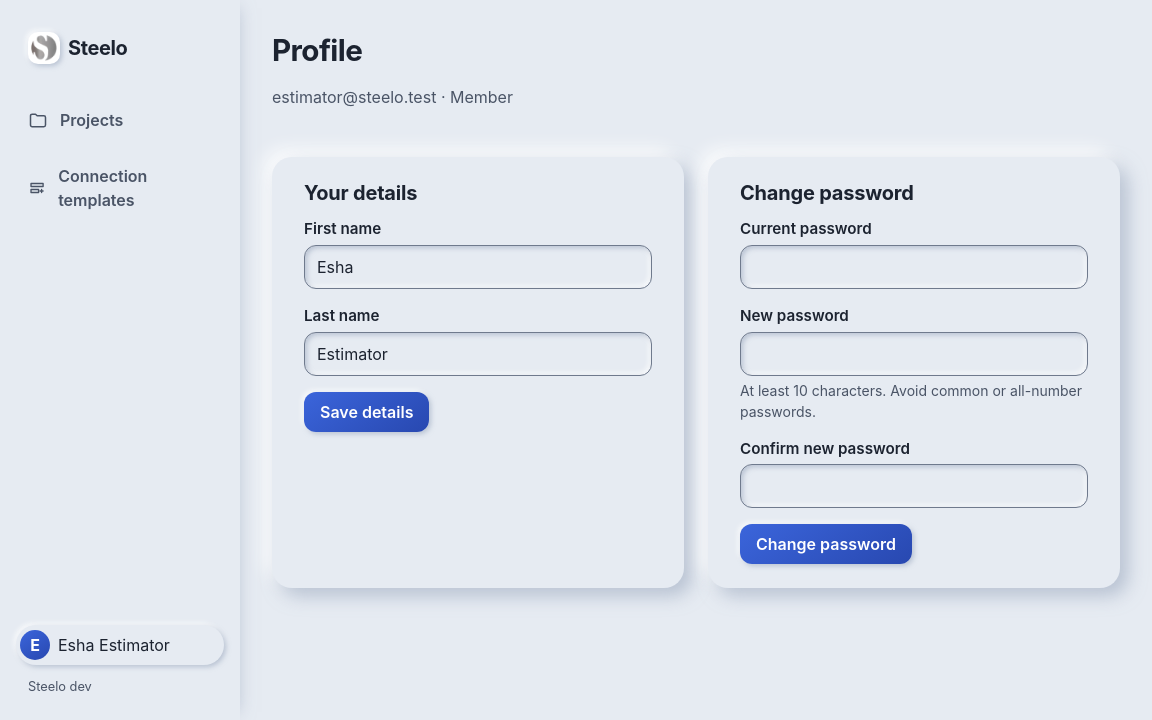
Profile › updates the name and reflects it in the user menu
Replace the text in the field labelled "First name" with "Eshani" at (478, 267), box 304,245 -> 652,289
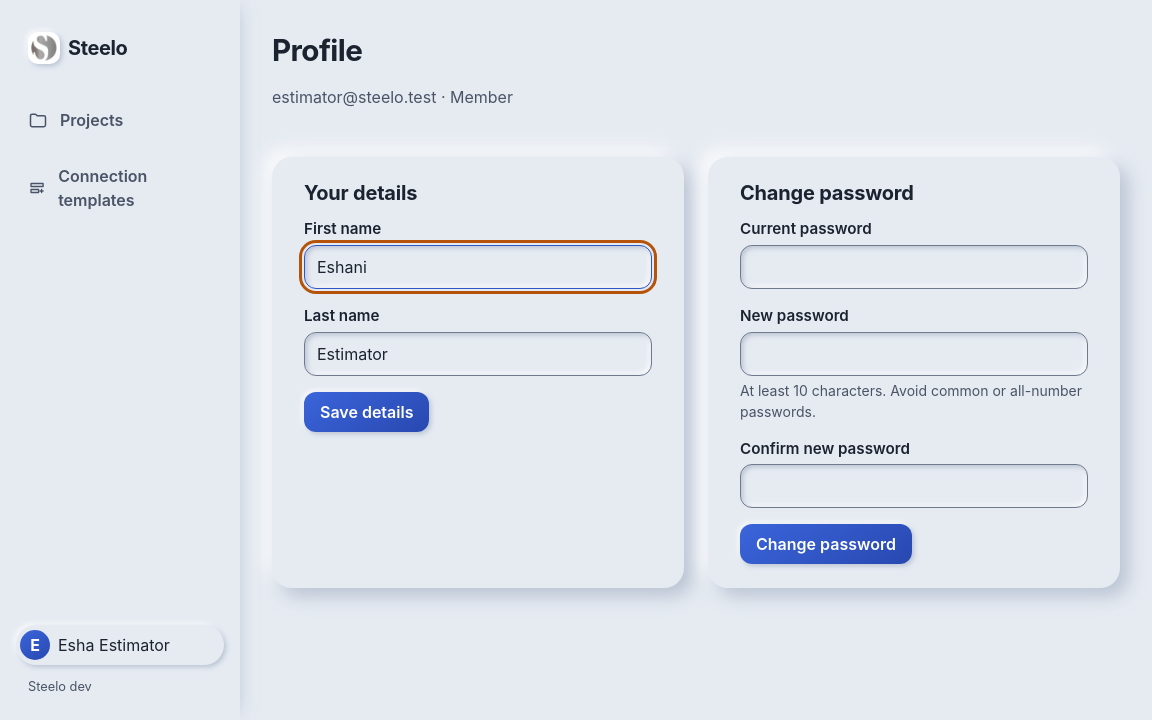
Click the button "Save details" at (367, 412), box 304,392 -> 429,432
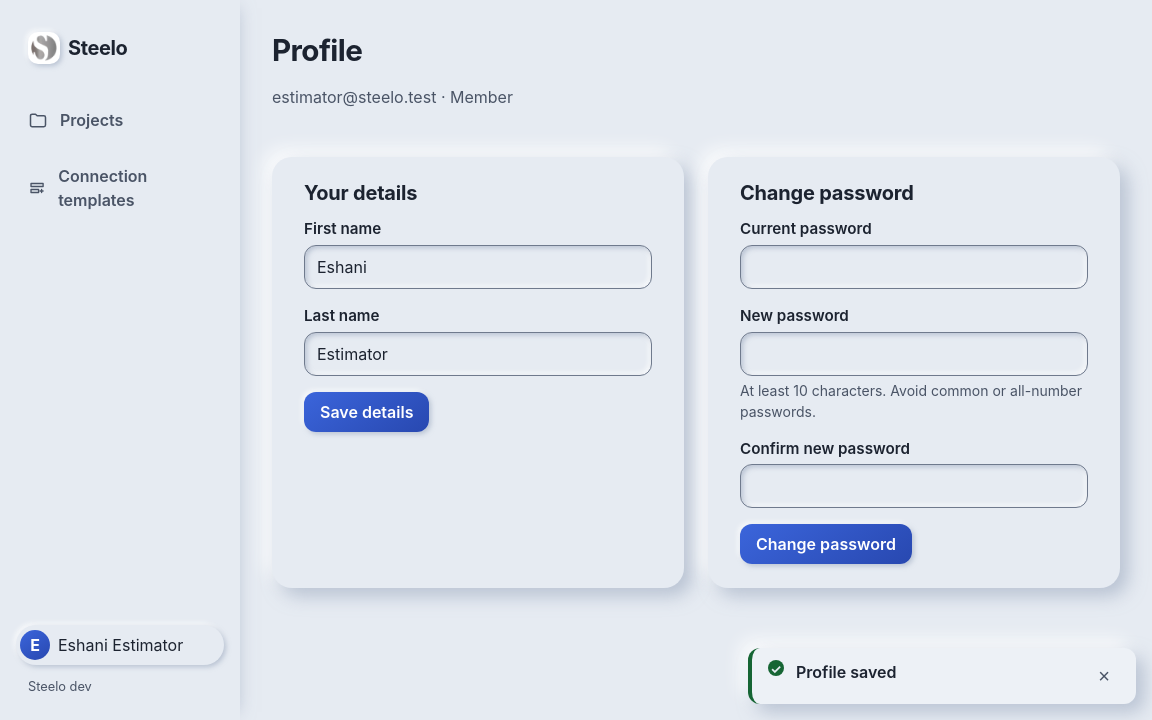
Result: the text "Profile saved" is shown at 796,662 -> 896,682
Result: the button with aria-label "Account menu for Eshani Estimator" is shown at 16,625 -> 224,665
